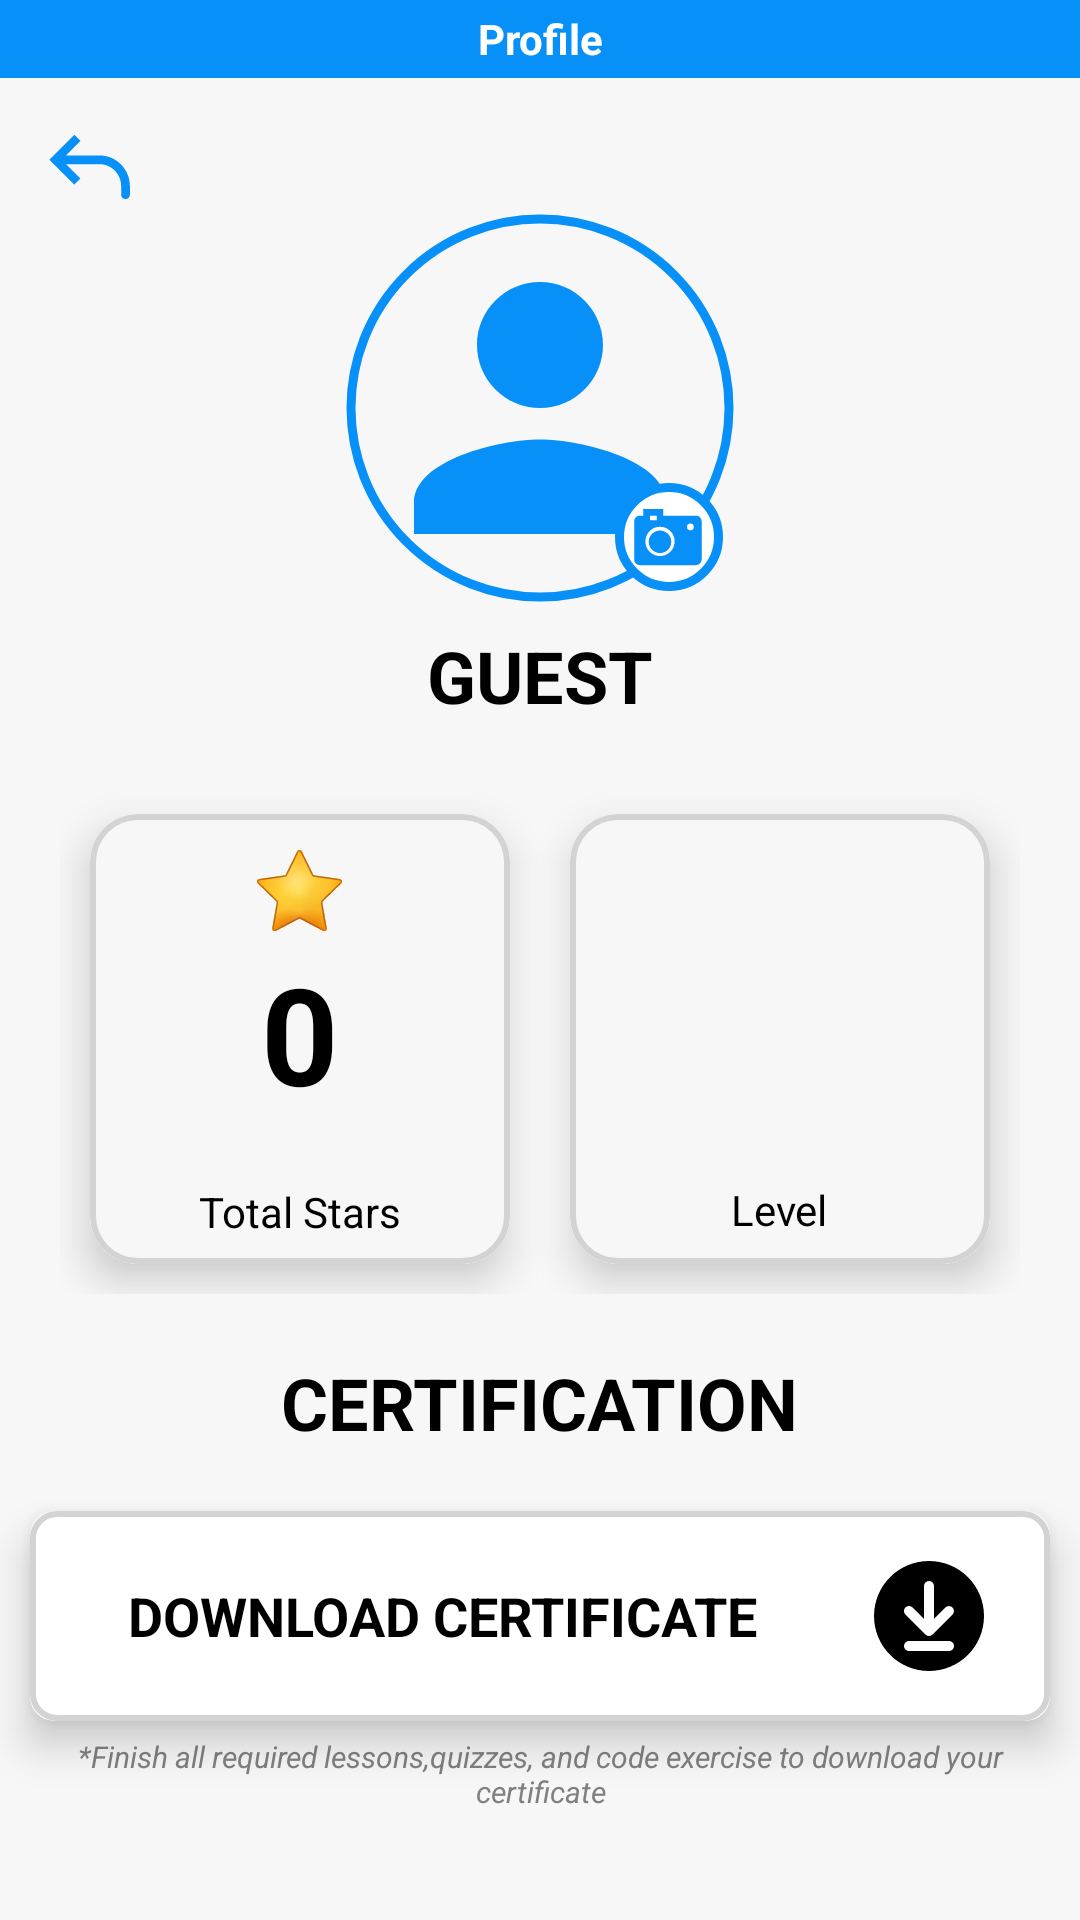

Where icons sit on this 1080 × 1920 app screen, as [left=x1, top=y1, right=x2, bottom=y2]:
back: [left=49, top=135, right=130, bottom=199]
star: [left=257, top=850, right=342, bottom=931]
